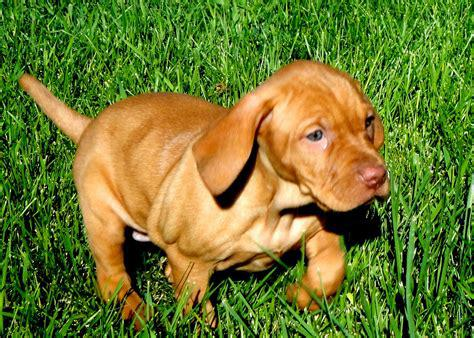dog: (20, 61, 389, 328)
